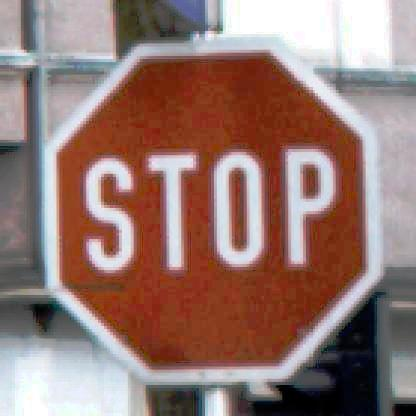Stop Sign: (36, 19, 380, 392)
